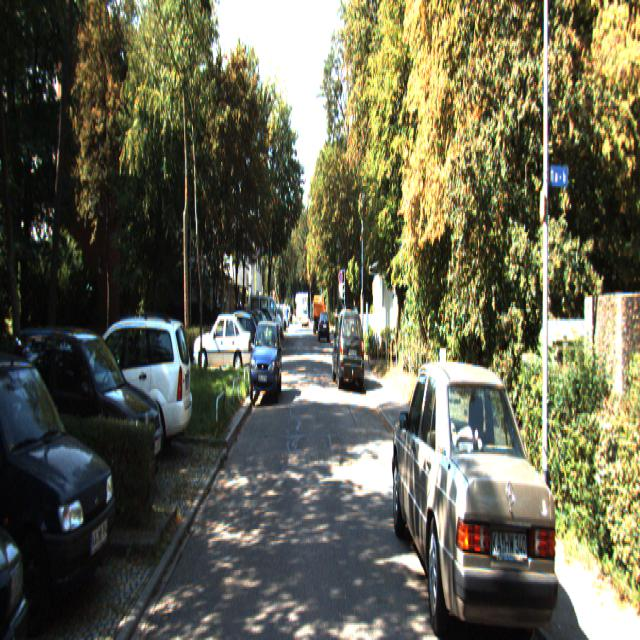Car: (390, 350, 558, 638), (0, 323, 119, 624), (0, 319, 166, 514), (51, 308, 195, 462), (193, 310, 252, 376), (250, 319, 282, 403), (333, 303, 364, 388)
